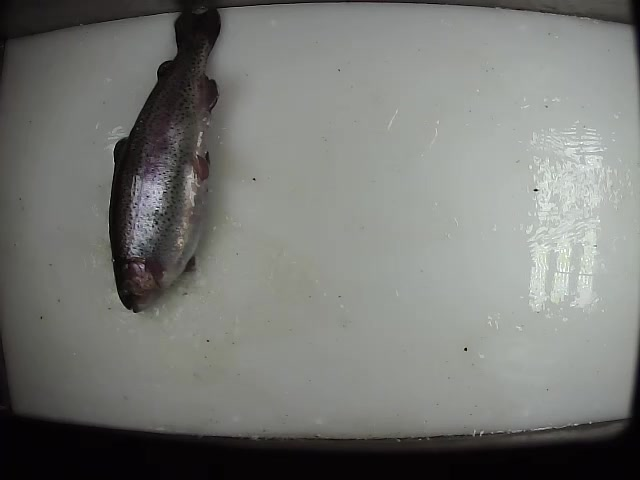fish: (106, 7, 222, 314)
